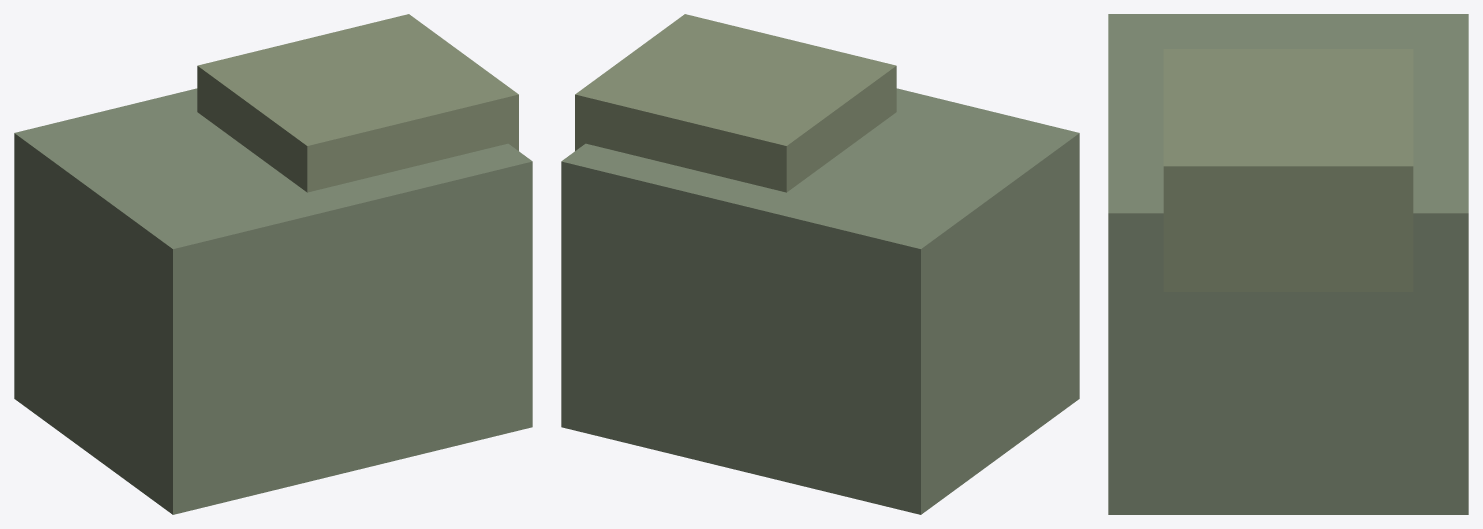
Rendered from bush.glb.
3 renders of one model, left to right at view 1: azimuth 30°, elevation 25°; view 2: azimuth 150°, elevation 25°; view 3: azimuth 270°, elevation 25°, orthographic. The views are drawn at different scales.
Parts seen in each view (by area): view 1: body; view 2: body; view 3: body.
Boxes of the visible parts, bbox=[...] form: body: bbox=[14, 14, 532, 514]; body: bbox=[561, 14, 1079, 514]; body: bbox=[1108, 14, 1468, 514].
Size of the model in its own units: 0.875 by 0.705 by 0.65.
